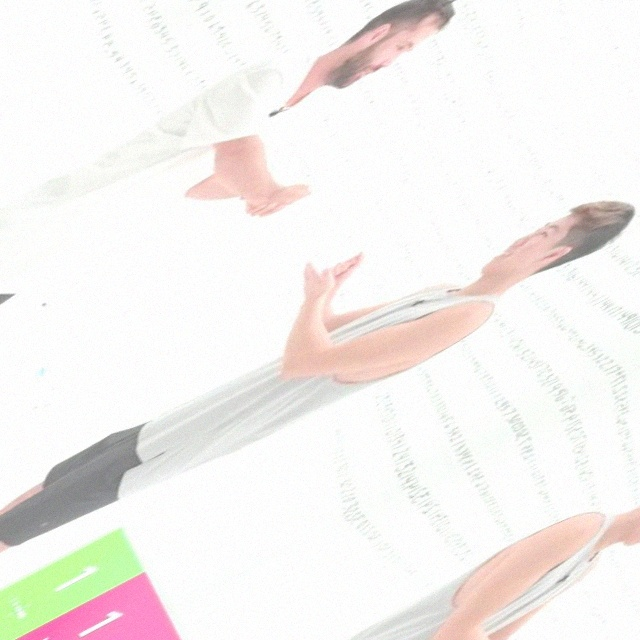Rock: (248, 172, 318, 223), (328, 246, 377, 282)
